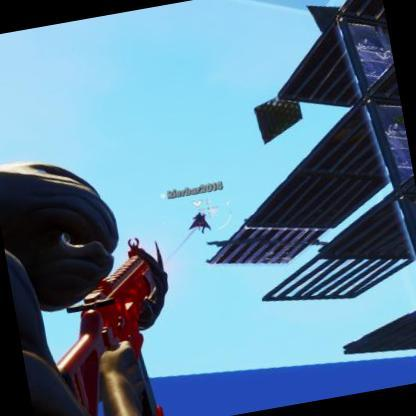person: (193, 208, 208, 228)
